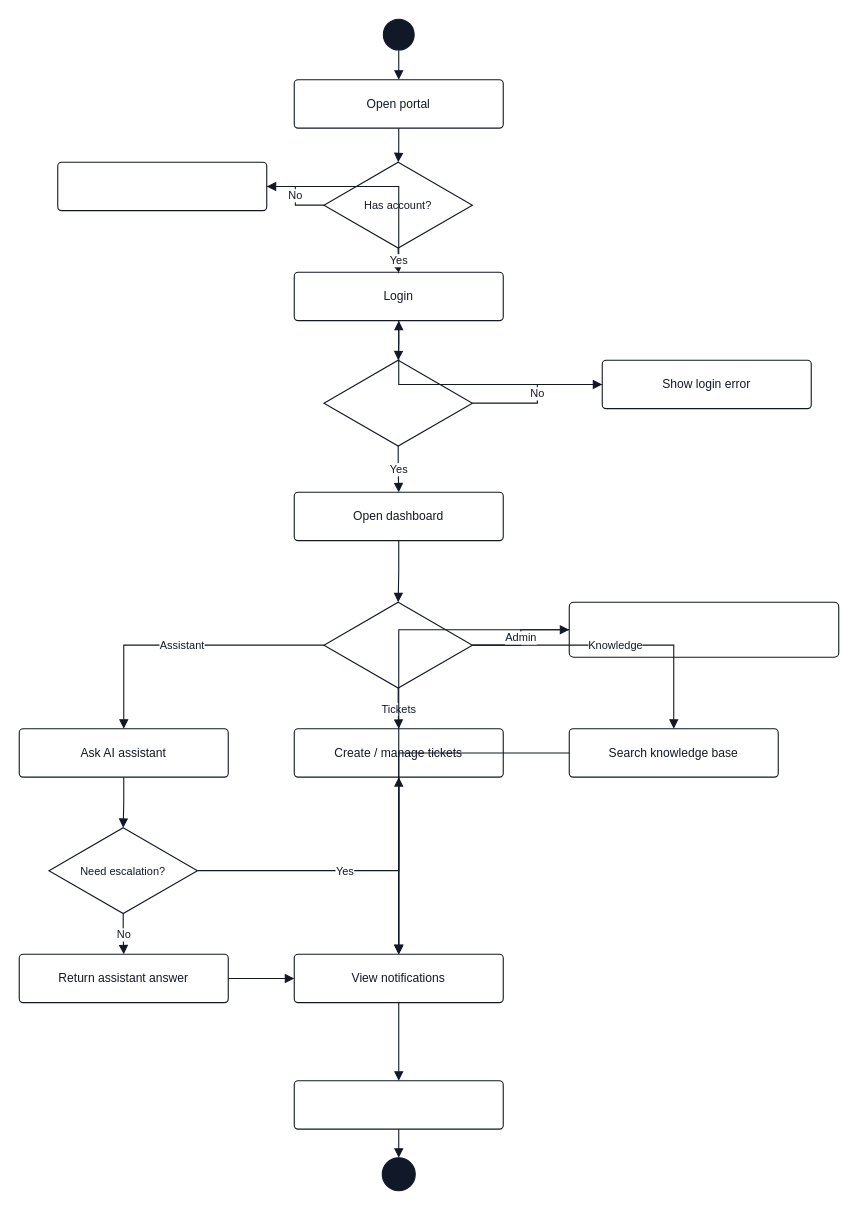
Image size: 858x1210. Some labels were removed from this diagram. Here are the shapes that lost their labels. From the top down, the centre of each, then its label:
At (x=162, y=186): "Register student account".
At (x=397, y=402): "Credentials valid?".
At (x=397, y=644): "Choose action".
At (x=703, y=629): "Admin manages FAQ, documents, API keys".
At (x=398, y=1104): "Logout".
